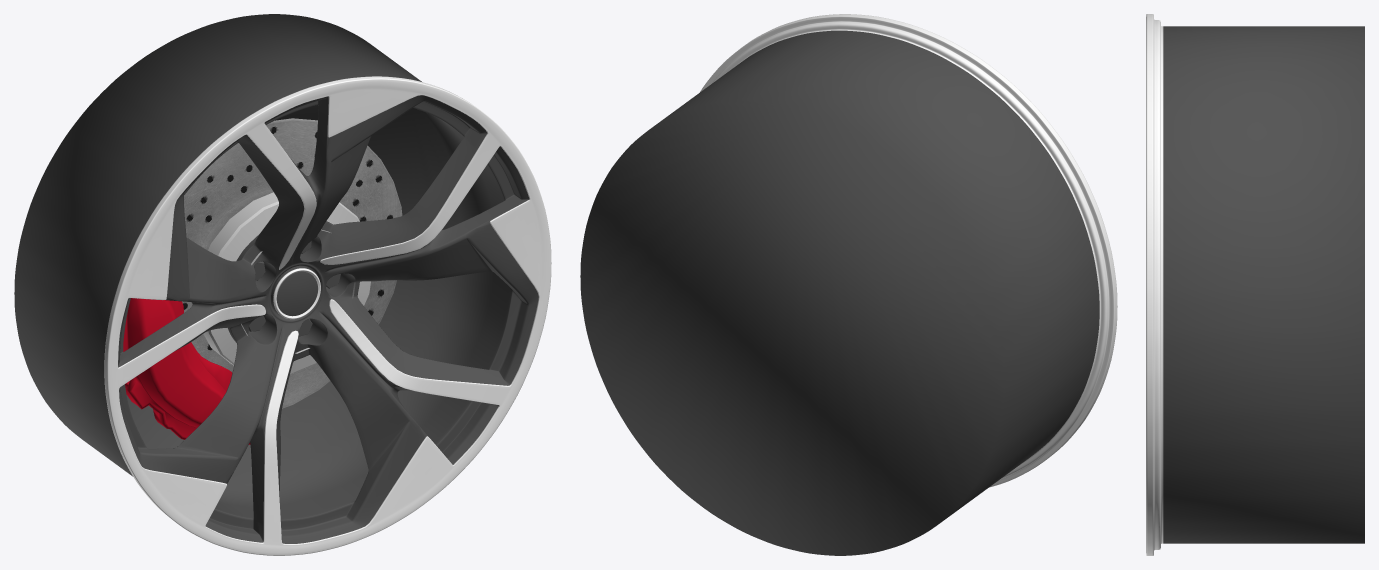
Rendered from jant4.fbx.
3 renders of one model, left to right at view 1: azimuth 30°, elevation 25°; view 2: azimuth 150°, elevation 25°; view 3: azimuth 270°, elevation 25°, orthographic. The views are drawn at different scales.
Visible parts, largest first — view 1: blackpaint_rim_black_paint_0, rimmatte_rim_rim_metallic_0, Rim_I.002, blackpaint_axis2_black_paint_0, blackpaint_boltwheel_black_paint_0; view 2: blackpaint_rim_black_paint_0, rimmatte_rim_rim_metallic_0; view 3: blackpaint_rim_black_paint_0, rimmatte_rim_rim_metallic_0.
Boxes of the visible parts, bbox=[...] form: blackpaint_rim_black_paint_0: bbox=[14, 14, 538, 543]; rimmatte_rim_rim_metallic_0: bbox=[104, 76, 551, 555]; Rim_I.002: bbox=[123, 118, 402, 444]; blackpaint_axis2_black_paint_0: bbox=[271, 265, 317, 316]; blackpaint_boltwheel_black_paint_0: bbox=[248, 241, 340, 336]; blackpaint_rim_black_paint_0: bbox=[580, 30, 1099, 555]; rimmatte_rim_rim_metallic_0: bbox=[700, 14, 1117, 487]; blackpaint_rim_black_paint_0: bbox=[1163, 26, 1364, 543]; rimmatte_rim_rim_metallic_0: bbox=[1146, 14, 1163, 555].
Bounding box in the file's own units: 43.19 × 43.19 × 17.44.
6 materials, 1 textured.
